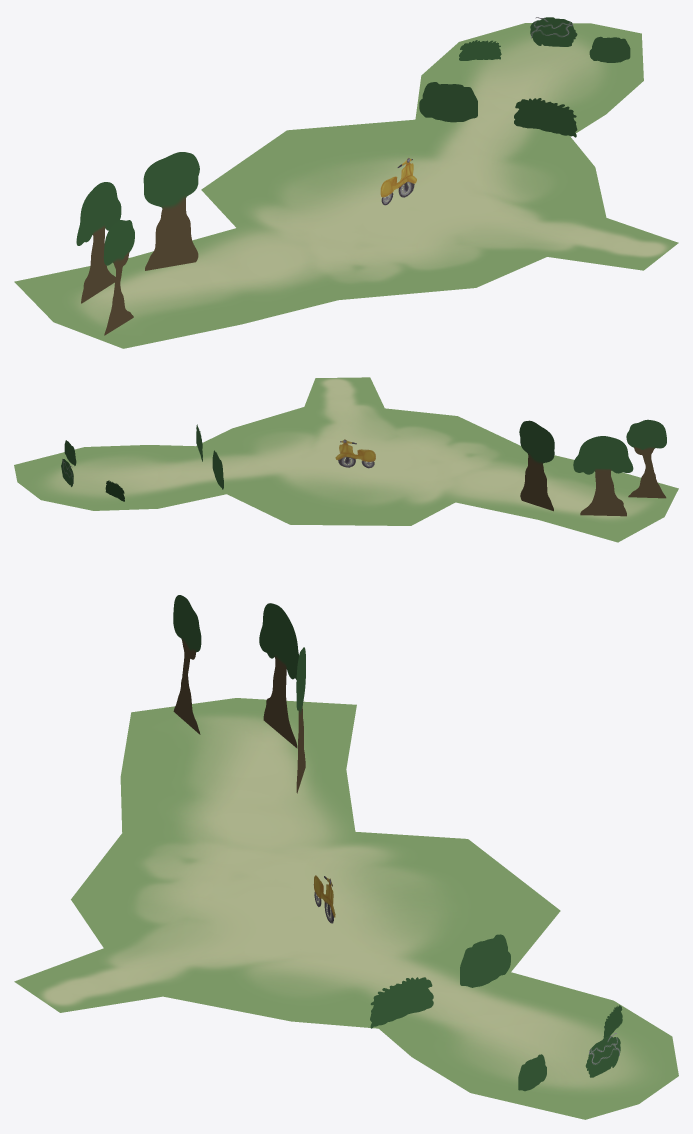
The model's file is first level forest.glb.
3 renders of one model, top to bottom at view 1: azimuth 30°, elevation 25°; view 2: azimuth 150°, elevation 25°; view 3: azimuth 270°, elevation 25°, orthographic. The views are drawn at different scales.
Parts seen in each view (by area): view 1: Plane, Plane.005, Plane.006, Plane.009, Plane.007, Plane.008, Plane.003, Plane.002, Plane.001, Plane.004; view 2: Plane, Plane.006, Plane.005, Plane.007, Plane.001, Plane.009; view 3: Plane, Plane.006, Plane.008, Plane.007, Plane.009, Plane.003, Plane.005.
Part boxes in pixels (bbox=[...]): Plane: bbox=[14, 23, 678, 348]; Plane.005: bbox=[143, 152, 199, 270]; Plane.006: bbox=[76, 182, 121, 303]; Plane.009: bbox=[419, 82, 477, 122]; Plane.007: bbox=[103, 220, 134, 335]; Plane.008: bbox=[514, 98, 577, 137]; Plane.003: bbox=[530, 17, 577, 46]; Plane.002: bbox=[589, 36, 630, 62]; Plane.001: bbox=[380, 157, 416, 205]; Plane.004: bbox=[459, 40, 501, 60]; Plane: bbox=[14, 377, 678, 542]; Plane.006: bbox=[573, 436, 633, 516]; Plane.005: bbox=[519, 420, 554, 511]; Plane.007: bbox=[626, 419, 666, 498]; Plane.001: bbox=[335, 439, 375, 468]; Plane.009: bbox=[212, 450, 223, 489]; Plane: bbox=[14, 698, 678, 1119]; Plane.006: bbox=[259, 603, 298, 748]; Plane.008: bbox=[370, 977, 433, 1028]; Plane.007: bbox=[173, 595, 201, 734]; Plane.009: bbox=[460, 934, 510, 987]; Plane.003: bbox=[585, 1033, 620, 1077]; Plane.005: bbox=[296, 647, 305, 793].
Bounding box in the file's own units: 64.51 × 9.73 × 42.96.
Materials: 3 (3 with a texture image).
